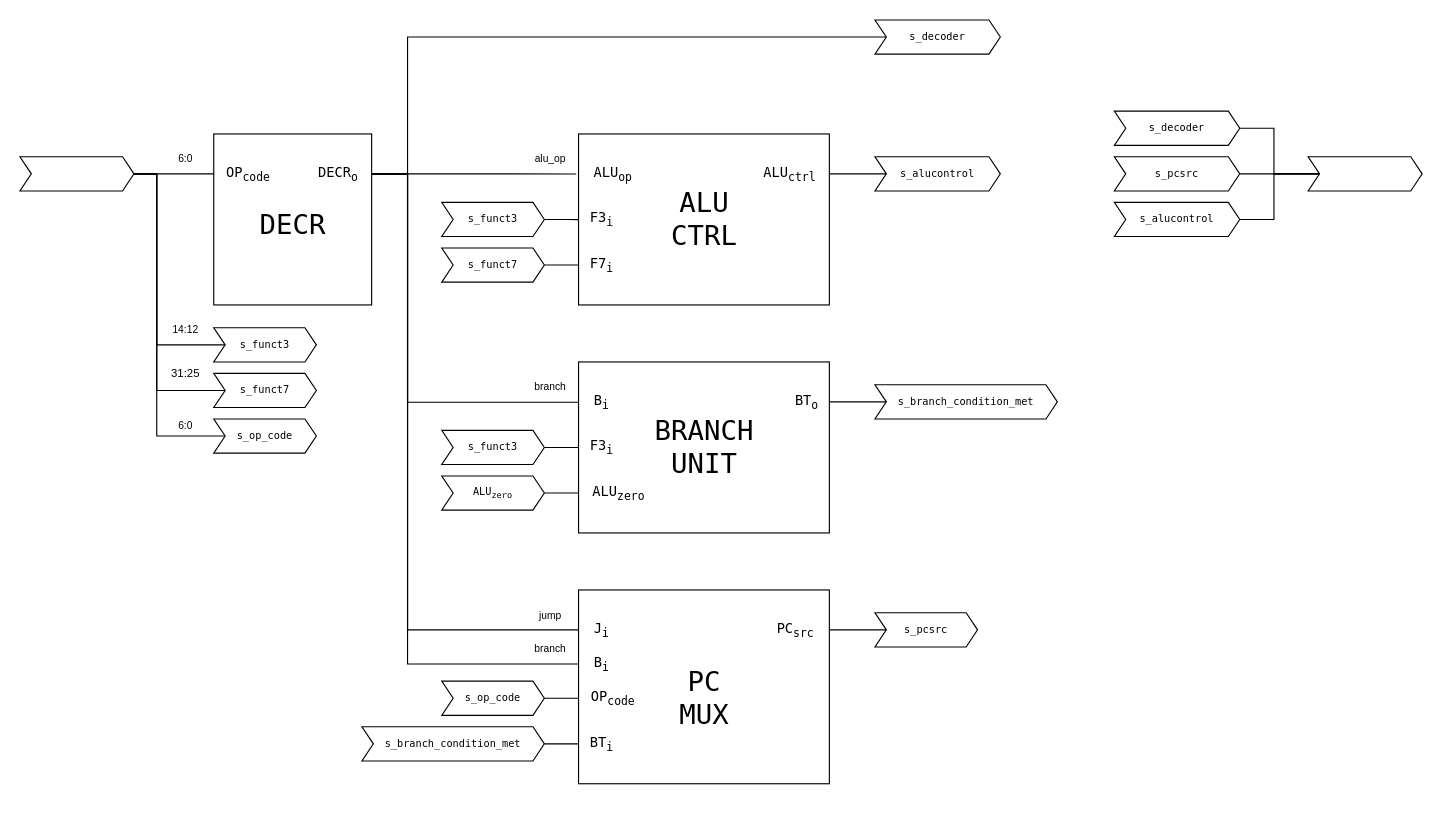
This 1442x838 diagram has some shape labels left out. The shapes that lost their labels are listed below. From the top down, each one's centre as x and y in pixels, then its label:
At pixel 76 173: "Instruction".
At pixel 1364 173: "Control".
